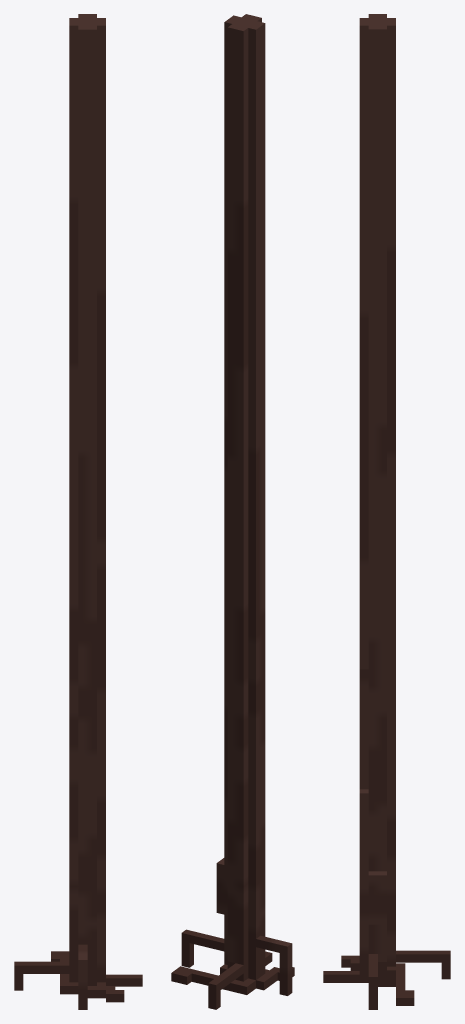
Rendered from tree_long.fbx.
3 renders of one model, left to right at view 1: azimuth 90°, elevation 25°; view 2: azimuth 150°, elevation 25°; view 3: azimuth 270°, elevation 25°, orthographic.
Parts seen in each view (by area): view 1: tree_thick; view 2: tree_thick; view 3: tree_thick.
Boxes of the visible parts, <box> form: tree_thick: <box>14,14,142,1009</box>; tree_thick: <box>171,14,294,1009</box>; tree_thick: <box>323,14,450,1009</box>.
Size of the model in its own units: 14 by 116 by 14.
1 material, 1 textured.
